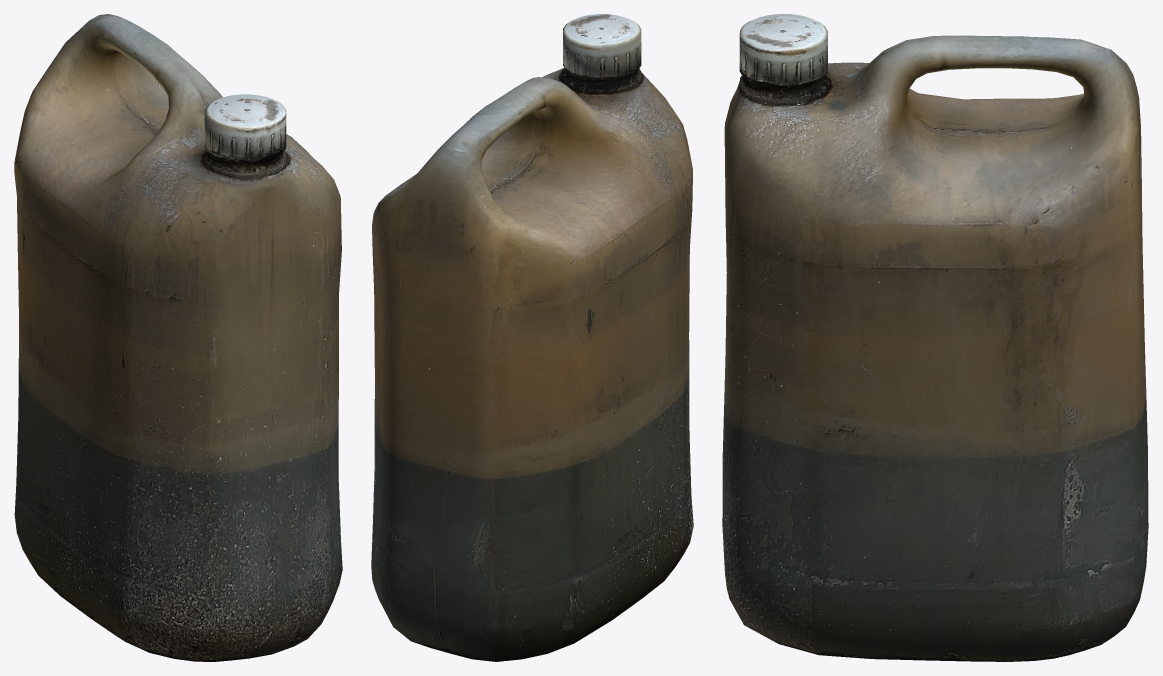
Rendered from oil_bottle.gltf.
3 renders of one model, left to right at view 1: azimuth 30°, elevation 25°; view 2: azimuth 150°, elevation 25°; view 3: azimuth 270°, elevation 25°, orthographic. The views are drawn at different scales.
Parts seen in each view (by area): view 1: model_diffuse-material; view 2: model_diffuse-material; view 3: model_diffuse-material.
Part boxes in pixels (box(x1,y1,x2,y2)): model_diffuse-material: box(14, 14, 342, 661); model_diffuse-material: box(371, 14, 693, 661); model_diffuse-material: box(722, 14, 1148, 661).
Bounding box in the file's own units: 0.1335 × 0.2932 × 0.1949.
1 material, 1 textured.
